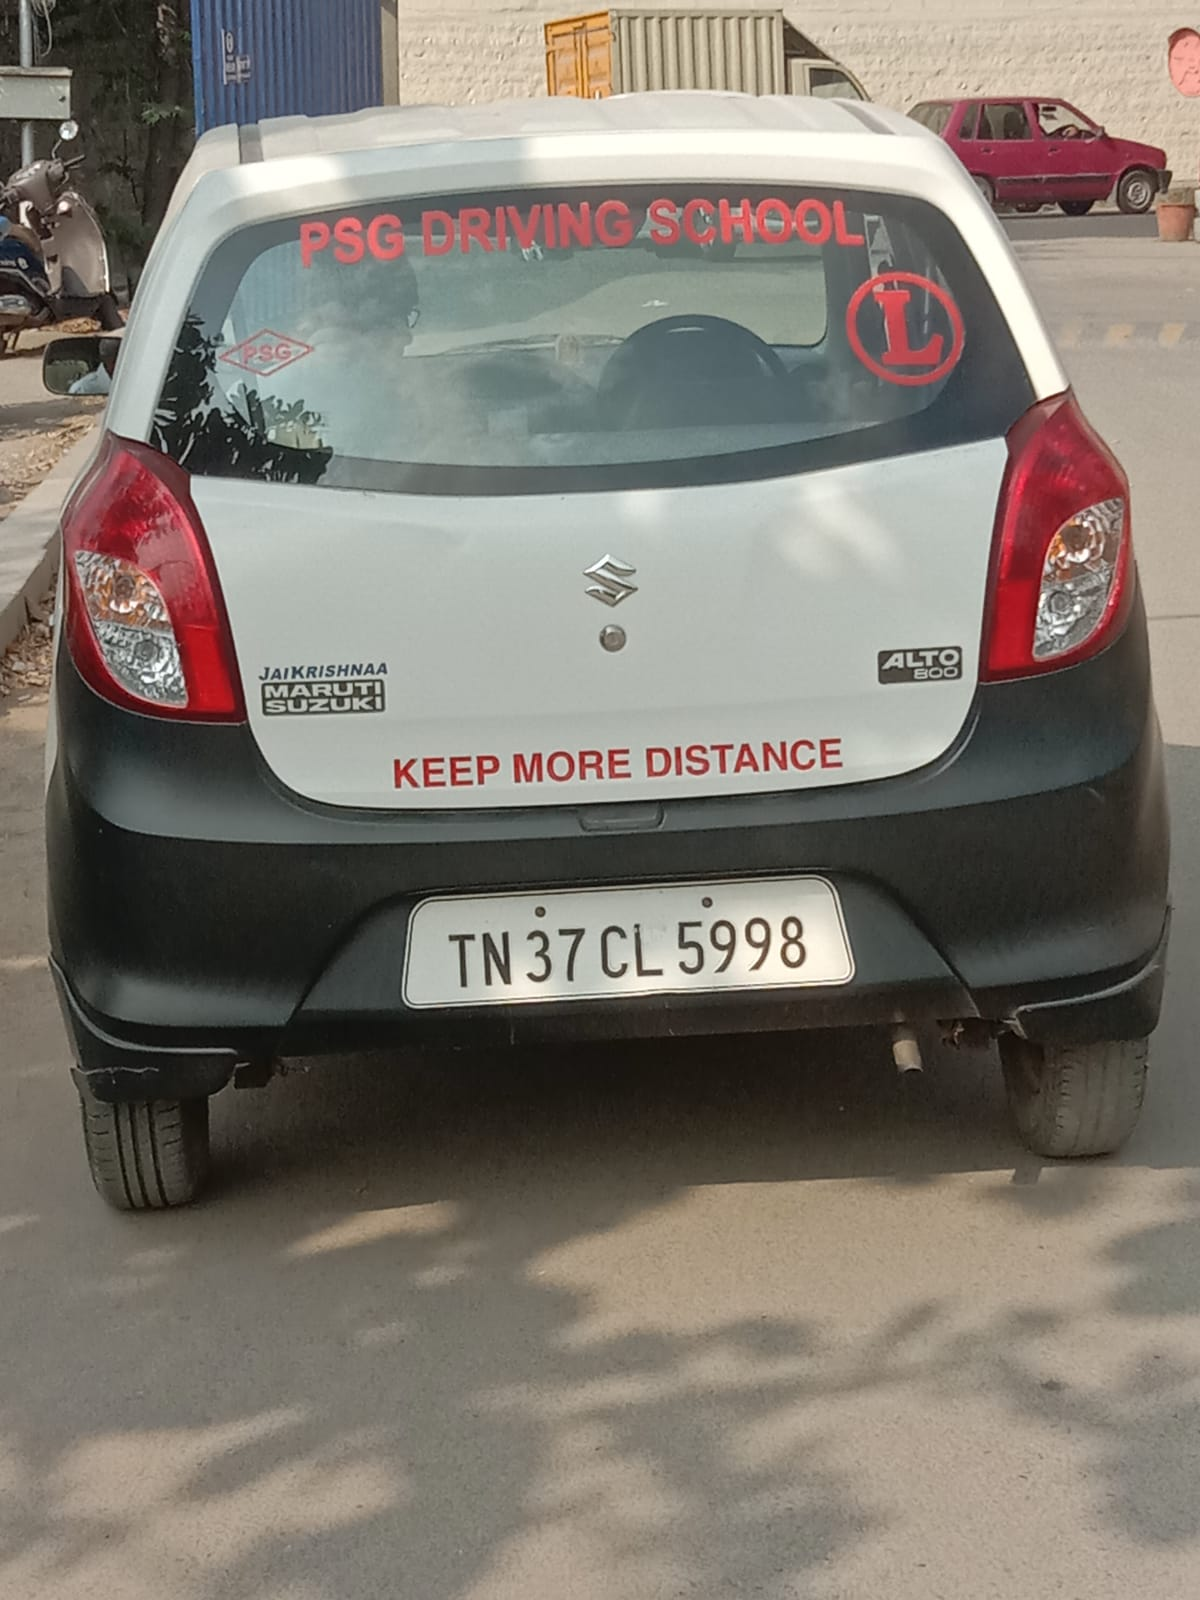car: (65, 93, 1170, 1229)
numberplate: (394, 867, 883, 1027)
